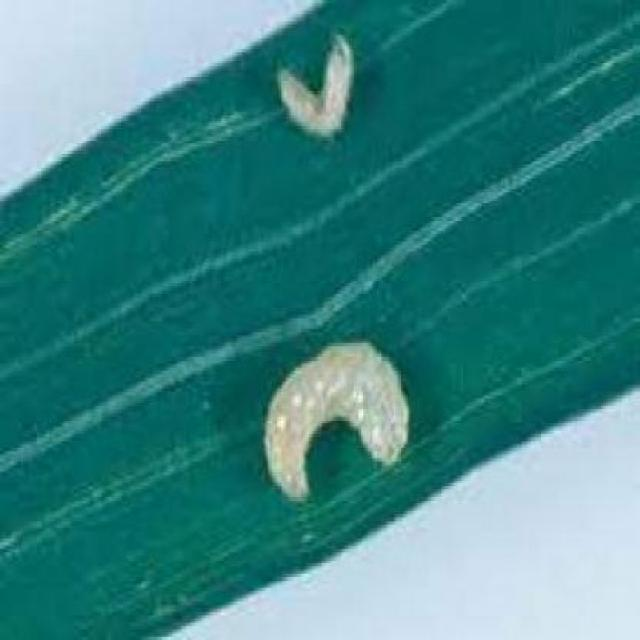whorl-maggot: (252, 323, 418, 514), (272, 24, 365, 136)
